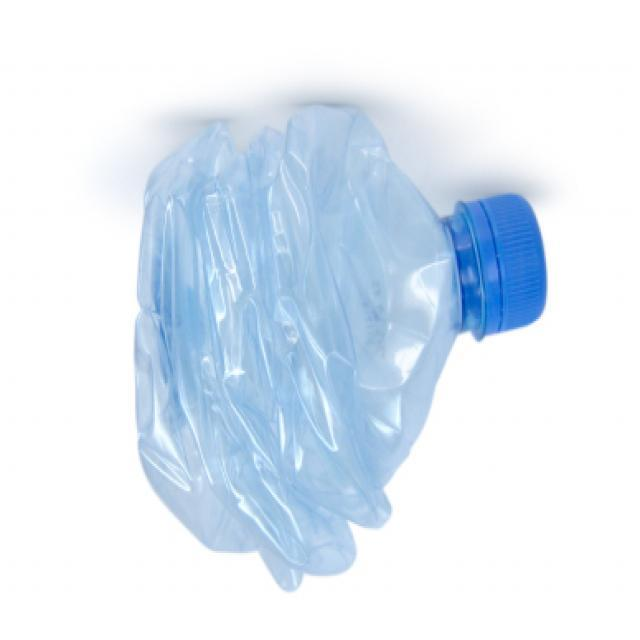cap: (459, 189, 548, 346)
crumbled: (124, 91, 558, 598)
